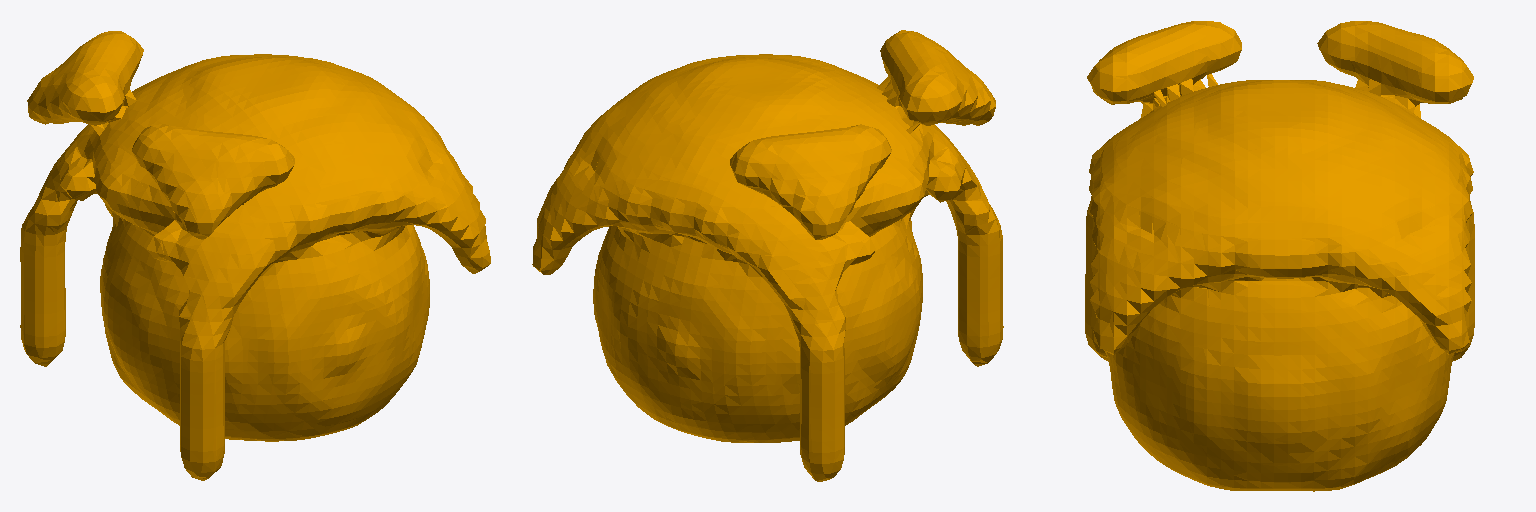
The robot description file, URDF, robot "object":
<?xml version="1.0"?>
<robot name="object">
  <link name="object">
    <visual>
      <origin xyz="0 0 0"/>
      <geometry>
        <mesh filename="meshes/subset_100_scaled/egad_H18_3_s.obj" scale=".03 .03 .03"/>
      </geometry>
    </visual>
    <collision>
  <origin xyz="0 0 0"/>
  <geometry>
    <mesh filename="meshes/subset_100_scaled/egad_H18_3_s_0decompose.obj" scale=".03 .03 .03"/>
<!--          <mesh filename="meshes/custom/obj0_ball.obj" scale=".05 .05 .05"/>-->
  </geometry>
</collision><collision>
  <origin xyz="0 0 0"/>
  <geometry>
    <mesh filename="meshes/subset_100_scaled/egad_H18_3_s_1decompose.obj" scale=".03 .03 .03"/>
<!--          <mesh filename="meshes/custom/obj0_ball.obj" scale=".05 .05 .05"/>-->
  </geometry>
</collision><collision>
  <origin xyz="0 0 0"/>
  <geometry>
    <mesh filename="meshes/subset_100_scaled/egad_H18_3_s_2decompose.obj" scale=".03 .03 .03"/>
<!--          <mesh filename="meshes/custom/obj0_ball.obj" scale=".05 .05 .05"/>-->
  </geometry>
</collision><collision>
  <origin xyz="0 0 0"/>
  <geometry>
    <mesh filename="meshes/subset_100_scaled/egad_H18_3_s_3decompose.obj" scale=".03 .03 .03"/>
<!--          <mesh filename="meshes/custom/obj0_ball.obj" scale=".05 .05 .05"/>-->
  </geometry>
</collision><collision>
  <origin xyz="0 0 0"/>
  <geometry>
    <mesh filename="meshes/subset_100_scaled/egad_H18_3_s_4decompose.obj" scale=".03 .03 .03"/>
<!--          <mesh filename="meshes/custom/obj0_ball.obj" scale=".05 .05 .05"/>-->
  </geometry>
</collision><collision>
  <origin xyz="0 0 0"/>
  <geometry>
    <mesh filename="meshes/subset_100_scaled/egad_H18_3_s_5decompose.obj" scale=".03 .03 .03"/>
<!--          <mesh filename="meshes/custom/obj0_ball.obj" scale=".05 .05 .05"/>-->
  </geometry>
</collision><collision>
  <origin xyz="0 0 0"/>
  <geometry>
    <mesh filename="meshes/subset_100_scaled/egad_H18_3_s_6decompose.obj" scale=".03 .03 .03"/>
<!--          <mesh filename="meshes/custom/obj0_ball.obj" scale=".05 .05 .05"/>-->
  </geometry>
</collision><collision>
  <origin xyz="0 0 0"/>
  <geometry>
    <mesh filename="meshes/subset_100_scaled/egad_H18_3_s_7decompose.obj" scale=".03 .03 .03"/>
<!--          <mesh filename="meshes/custom/obj0_ball.obj" scale=".05 .05 .05"/>-->
  </geometry>
</collision><collision>
  <origin xyz="0 0 0"/>
  <geometry>
    <mesh filename="meshes/subset_100_scaled/egad_H18_3_s_8decompose.obj" scale=".03 .03 .03"/>
<!--          <mesh filename="meshes/custom/obj0_ball.obj" scale=".05 .05 .05"/>-->
  </geometry>
</collision><collision>
  <origin xyz="0 0 0"/>
  <geometry>
    <mesh filename="meshes/subset_100_scaled/egad_H18_3_s_9decompose.obj" scale=".03 .03 .03"/>
<!--          <mesh filename="meshes/custom/obj0_ball.obj" scale=".05 .05 .05"/>-->
  </geometry>
</collision><collision>
  <origin xyz="0 0 0"/>
  <geometry>
    <mesh filename="meshes/subset_100_scaled/egad_H18_3_s_10decompose.obj" scale=".03 .03 .03"/>
<!--          <mesh filename="meshes/custom/obj0_ball.obj" scale=".05 .05 .05"/>-->
  </geometry>
</collision><collision>
  <origin xyz="0 0 0"/>
  <geometry>
    <mesh filename="meshes/subset_100_scaled/egad_H18_3_s_11decompose.obj" scale=".03 .03 .03"/>
<!--          <mesh filename="meshes/custom/obj0_ball.obj" scale=".05 .05 .05"/>-->
  </geometry>
</collision>

<!--    <collision>-->
<!--      <origin xyz="0 0 0"/>-->
<!--      <geometry>-->
<!--        <mesh filename="meshes/subset_100_scaled/egad_H18_3_s.obj" scale=".03 .03 .03"/>-->
<!--&lt;!&ndash;          <mesh filename="meshes/custom/obj0_ball.obj" scale=".05 .05 .05"/>&ndash;&gt;-->
<!--      </geometry>-->
<!--    </collision>-->
    <inertial>
      <density value="1000.0"/>
    </inertial>
  </link>
</robot>

--- What the picture shows (computed from the rendered views, not written in the file) ---
3 views of the same robot in one strip: view 1: azimuth 30°, elevation 25°; view 2: azimuth 150°, elevation 25°; view 3: azimuth 270°, elevation 25° (orthographic).
Model object with 1 links and 0 joints (none), rooted at object, posed every joint at zero.
Visible links, largest first — view 1: object; view 2: object; view 3: object.
Link boxes in pixels (x1=…): object: x1=20, y1=31, x2=490, y2=480; object: x1=532, y1=30, x2=1003, y2=481; object: x1=1085, y1=21, x2=1474, y2=491.
Size in the robot's own frame: 0.06 by 0.06 by 0.06 metres.
1 mesh visuals loaded from 1 distinct referenced files (1 OBJ).
